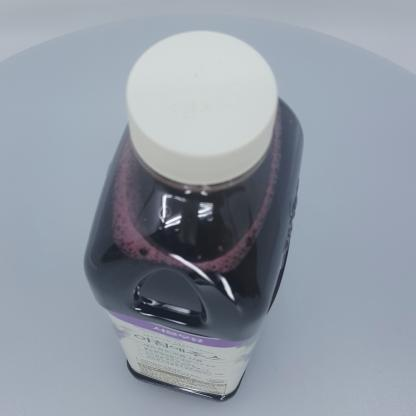------------950ML: (84, 30, 304, 403)
